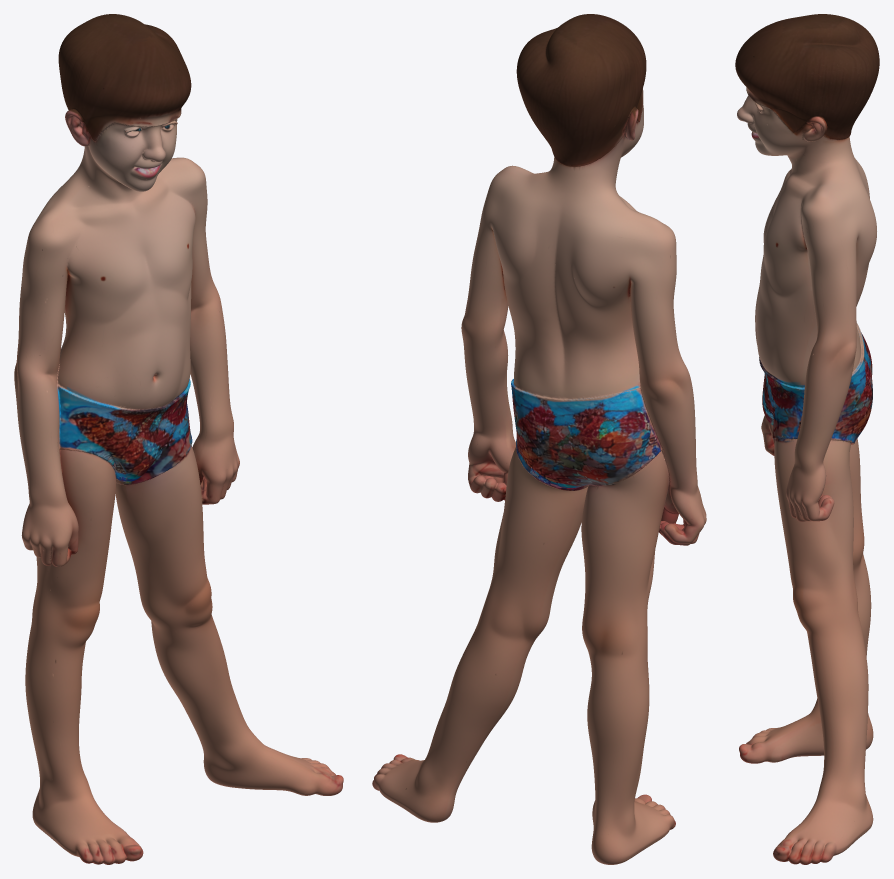
The picture shows the model from 3 angles, left to right: view 1: azimuth 30°, elevation 25°; view 2: azimuth 150°, elevation 25°; view 3: azimuth 270°, elevation 25°; orthographic projection. The views are drawn at different scales.
Visible parts, largest first — view 1: texture_pbr_v128; view 2: texture_pbr_v128; view 3: texture_pbr_v128.
Part boxes in pixels (x1,y1,x2,y2): texture_pbr_v128: [14, 14, 343, 864]; texture_pbr_v128: [372, 14, 706, 864]; texture_pbr_v128: [735, 14, 879, 864].
Bounding box in the file's own units: 0.4614 × 1.12 × 0.1934.
Materials: 1 (1 with a texture image).
